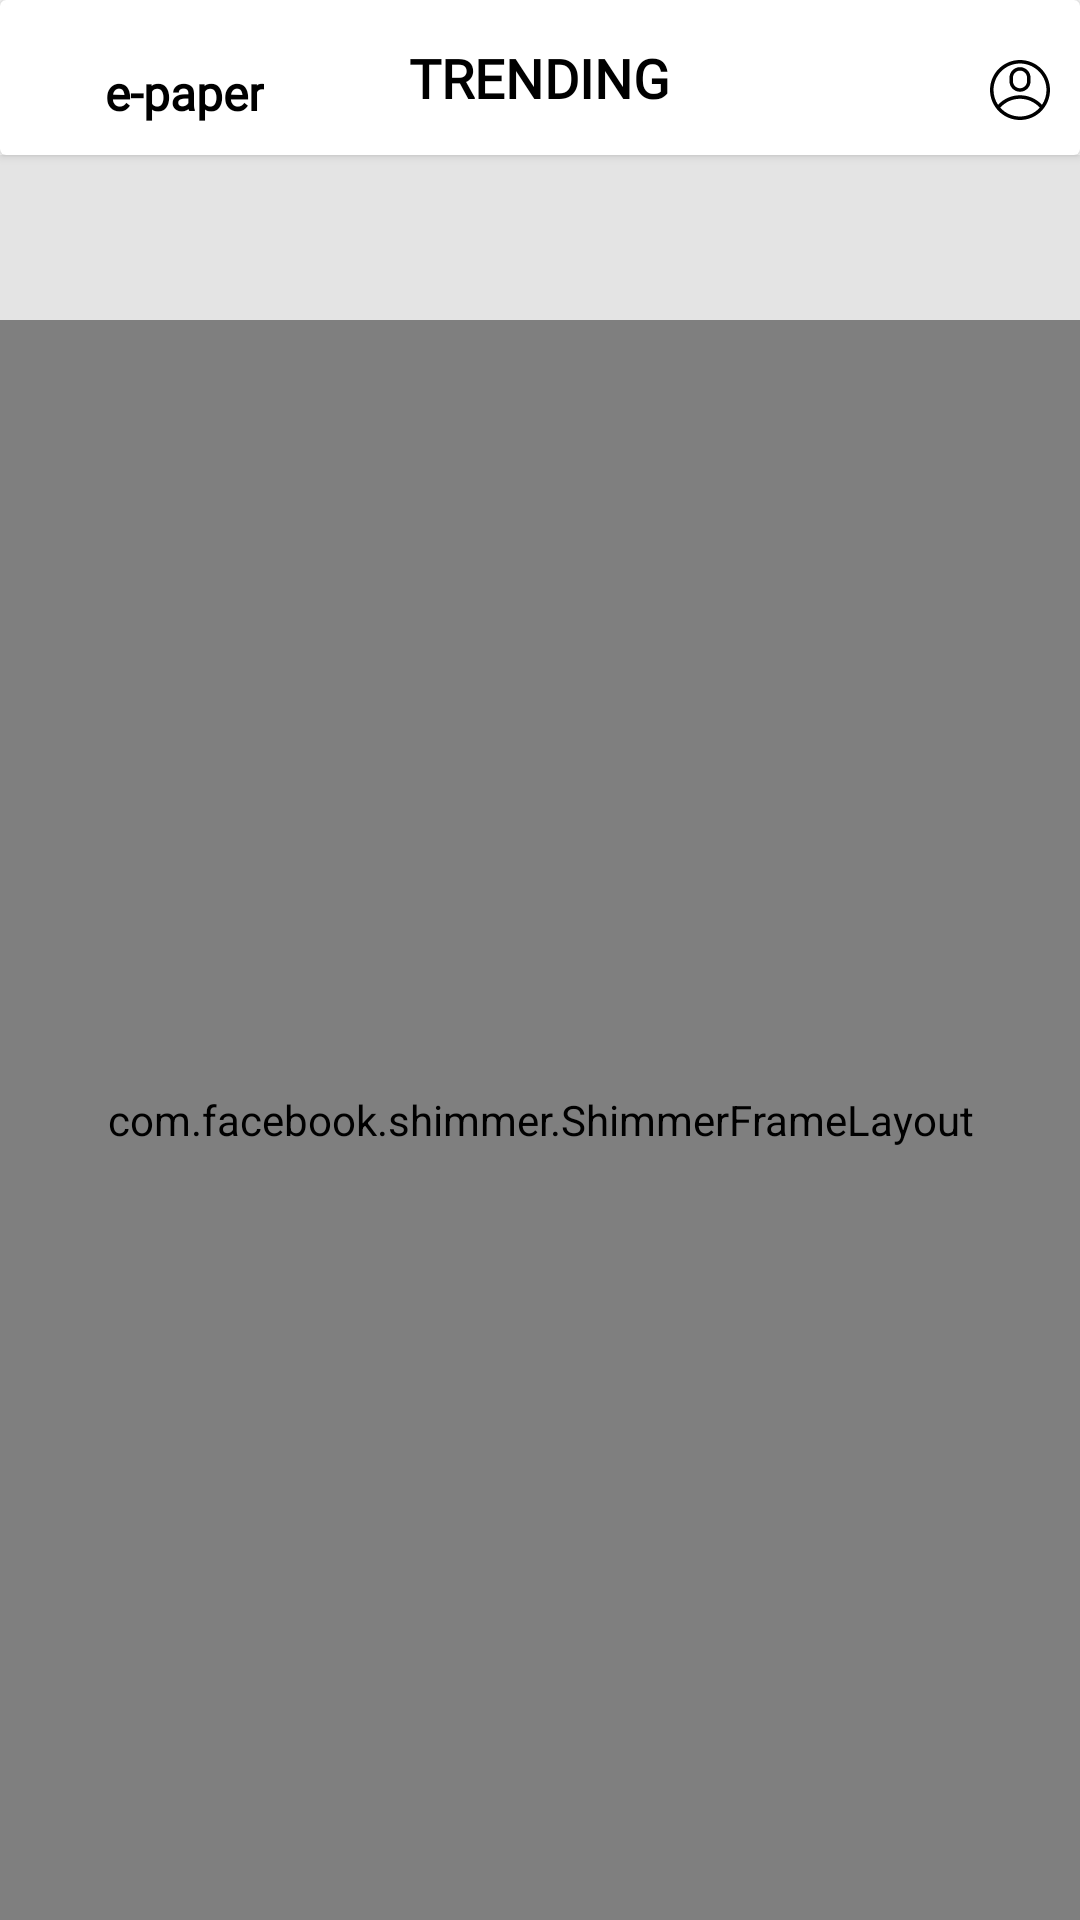

Screen size 1080x1920. Icon name, then its box in pixels as (left=x1, top=y1, right=x2, bottom=y2):
account: (left=990, top=60, right=1050, bottom=120)
